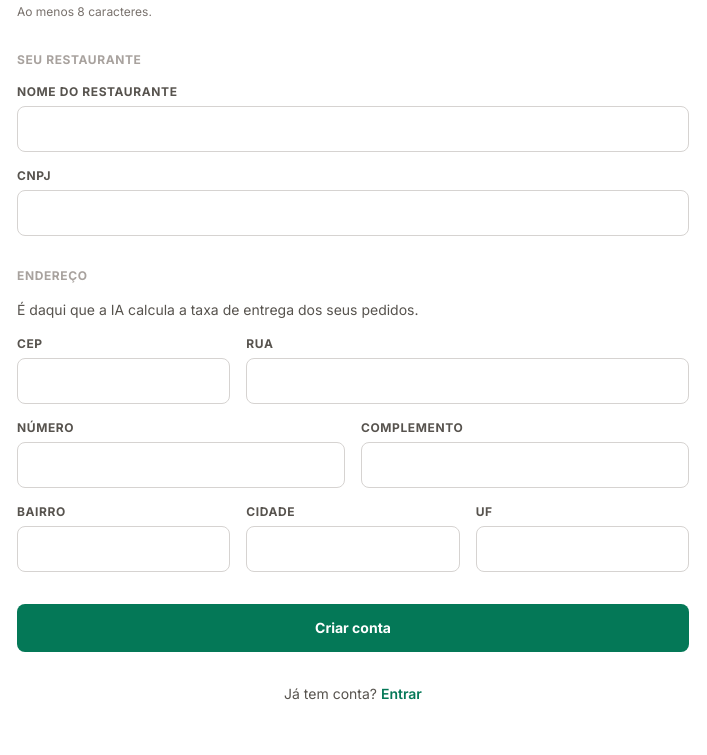
Scenario: Cadastro › some com o aviso de divergência quando o lojista muda o CEP de novo
The width and height of the screenshot is (707, 755).
(page scrolled)
Type "Rio de Janeiro" into the field labelled "Cidade" at (353, 549), box x1=246 y1=526 x2=460 y2=572
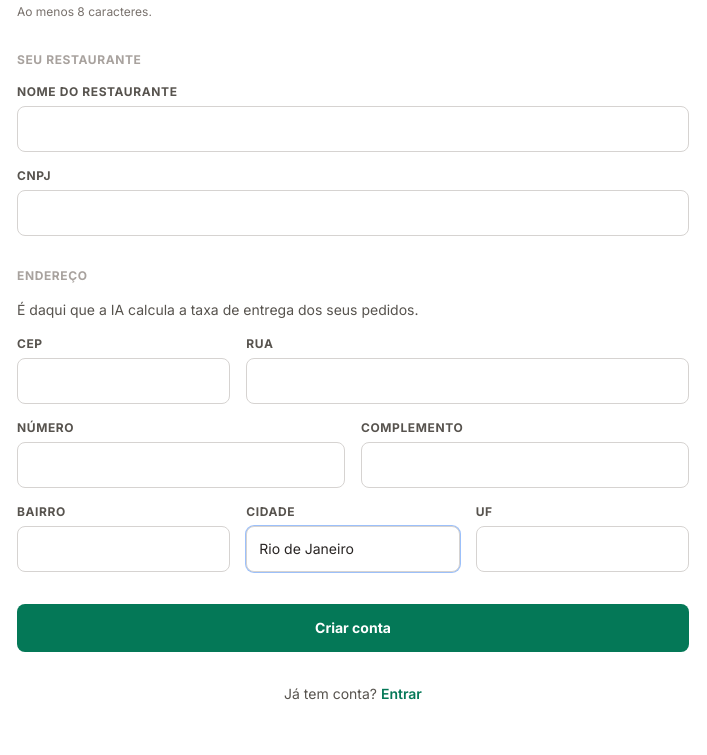
Type "01310100" into the field labelled "CEP" at (124, 381), box x1=17 y1=358 x2=230 y2=404
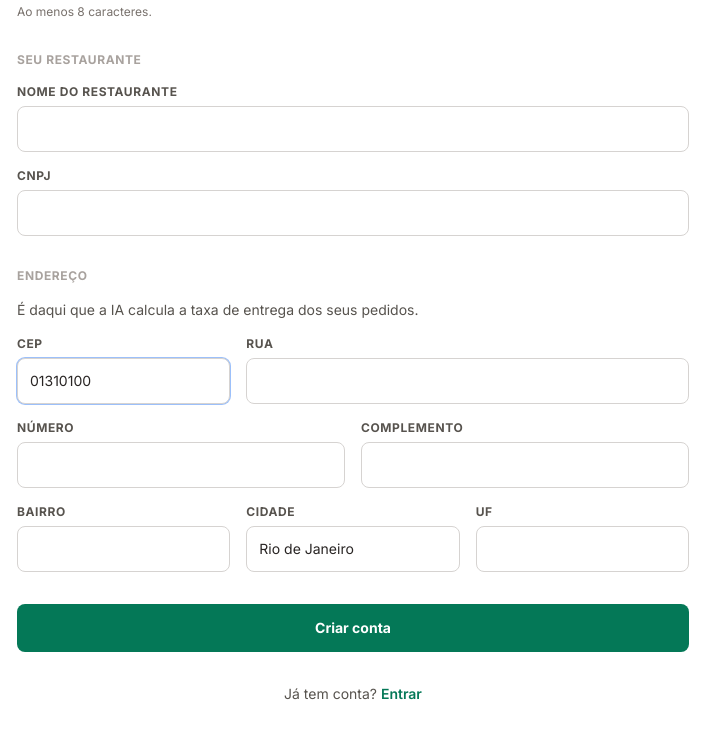
Press Tab
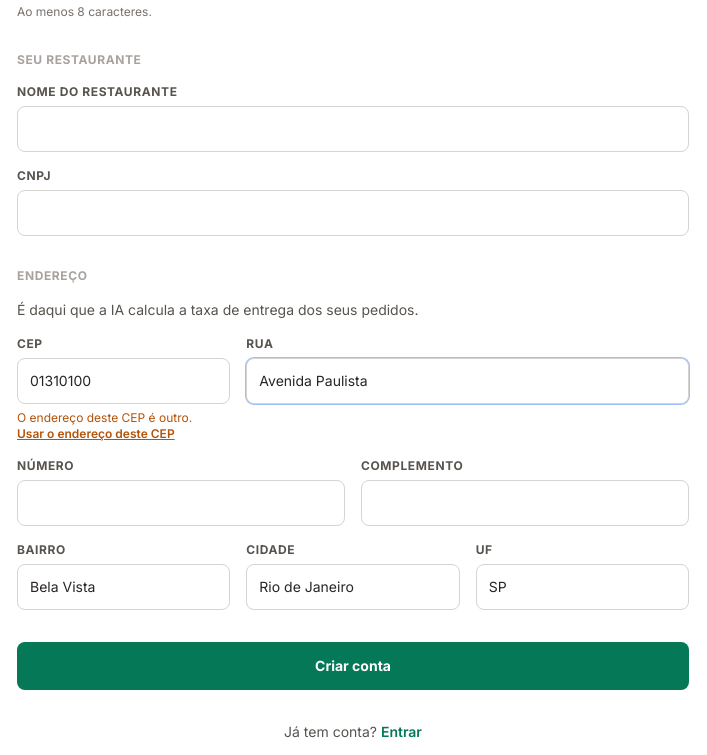
Check: the text "O endereço deste CEP é outro. Usar o endereço deste CEP" is shown, box x1=17 y1=410 x2=192 y2=442
Type "9" into the field labelled "CEP" at (124, 381), box x1=17 y1=358 x2=230 y2=404
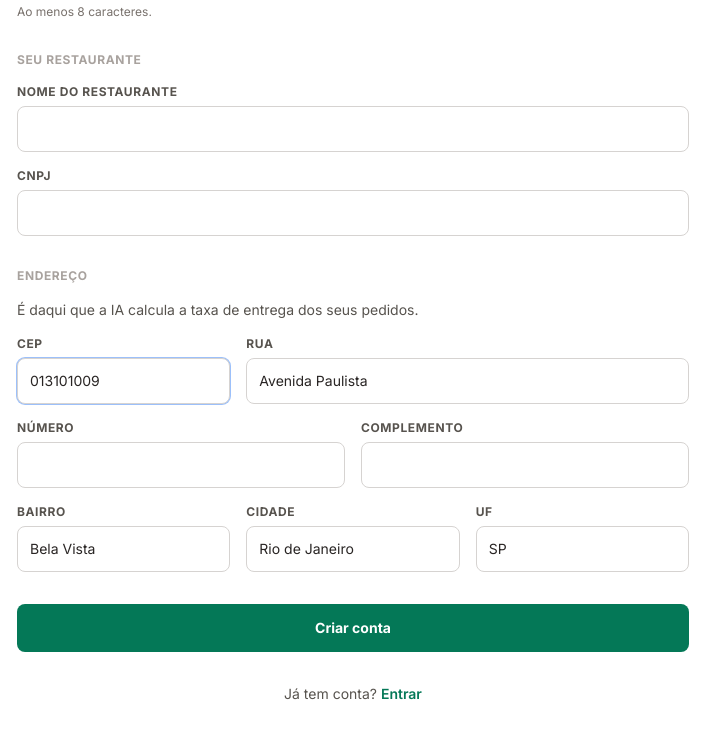
Check: the text "endereço deste CEP é outro" is gone
